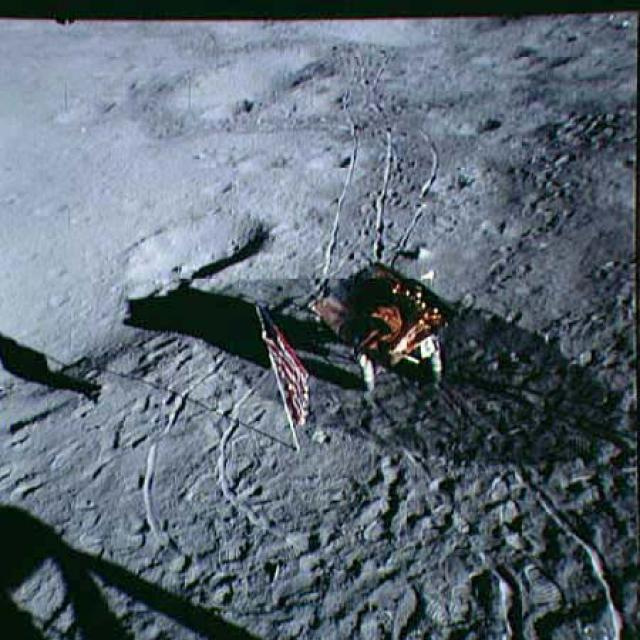crater: (310, 0, 544, 58), (125, 209, 287, 287), (169, 47, 342, 103), (287, 132, 379, 178), (414, 162, 509, 196), (49, 83, 125, 122), (434, 104, 504, 140)
